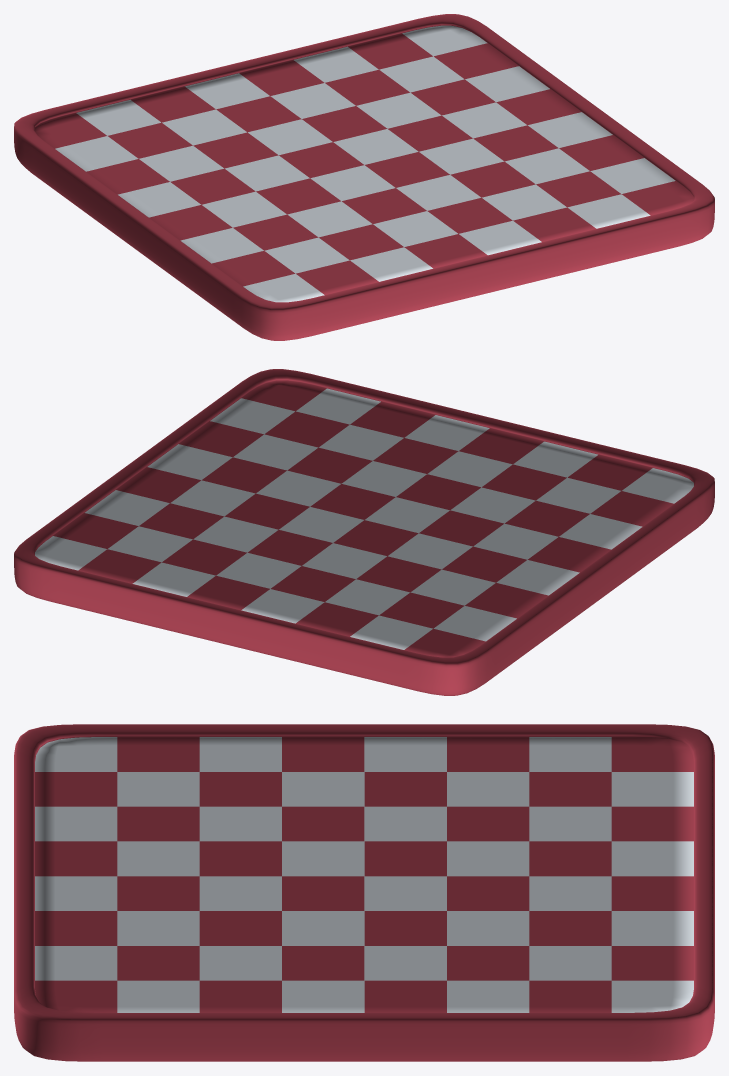
3 renders of one model, top to bottom at view 1: azimuth 30°, elevation 25°; view 2: azimuth 150°, elevation 25°; view 3: azimuth 270°, elevation 25°, orthographic. The views are drawn at different scales.
Visible parts, largest first — view 1: Object_36, Object_19; view 2: Object_36, Object_19; view 3: Object_36, Object_19.
Part boxes in pixels (<box>): Object_36: <box>14,14,714,340</box>; Object_19: <box>55,25,675,302</box>; Object_36: <box>14,369,714,695</box>; Object_19: <box>35,388,693,649</box>; Object_36: <box>14,724,714,1061</box>; Object_19: <box>35,737,693,1012</box>.
Size of the model in its own units: 8.51 by 0.6382 by 8.51.
